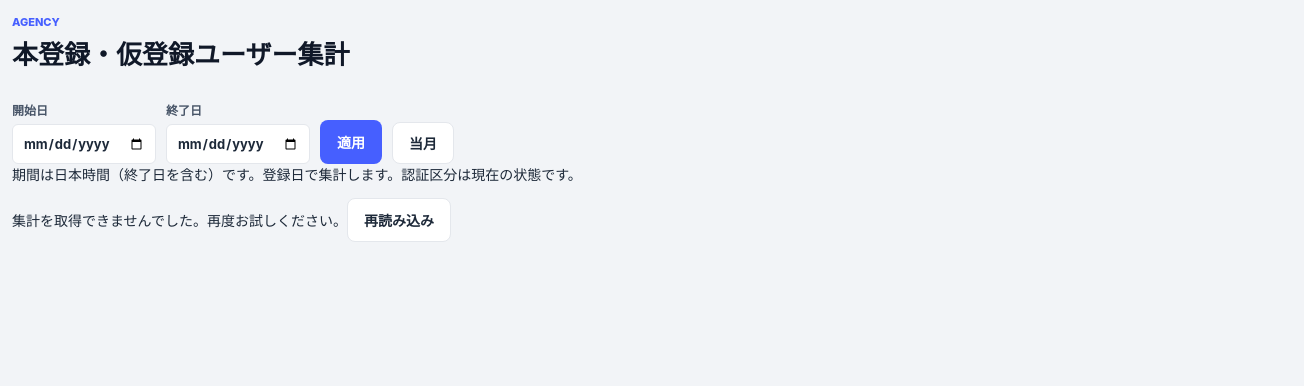
Test case: Agency aggregates › handles errors, retry, empty and pagination with a pinned period
Check: the message shows "取得できません", box [12,212,347,229]
Click the button "再読み込み".
click(399, 220)  # box [347,198,451,242]
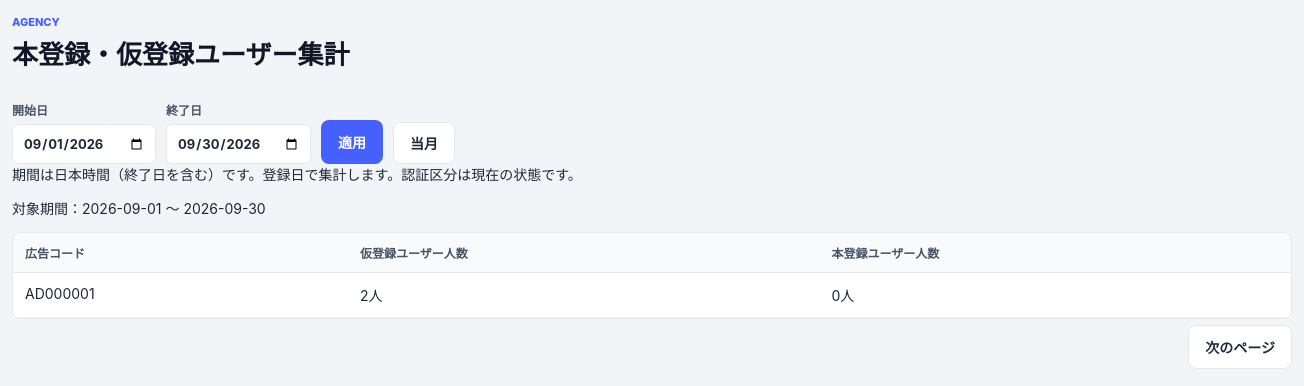
Check: the text "AD000001" is shown, box [13,272,348,318]
Click the button "次のページ".
click(1240, 347)  # box [1188,325,1292,369]
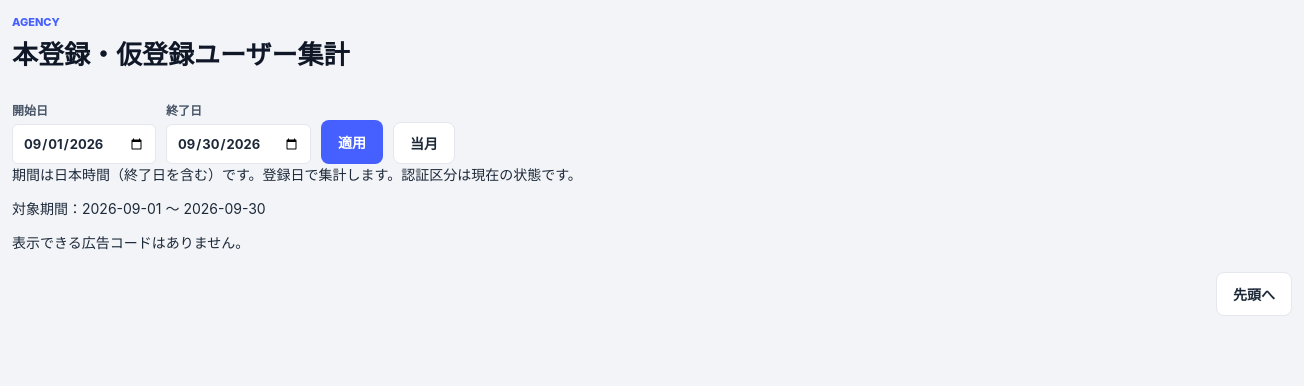
Check: the text "表示できる広告コードはありません。" is shown, box [12,234,249,251]
Check: the button "先頭へ" is shown, box [1216,272,1292,316]
